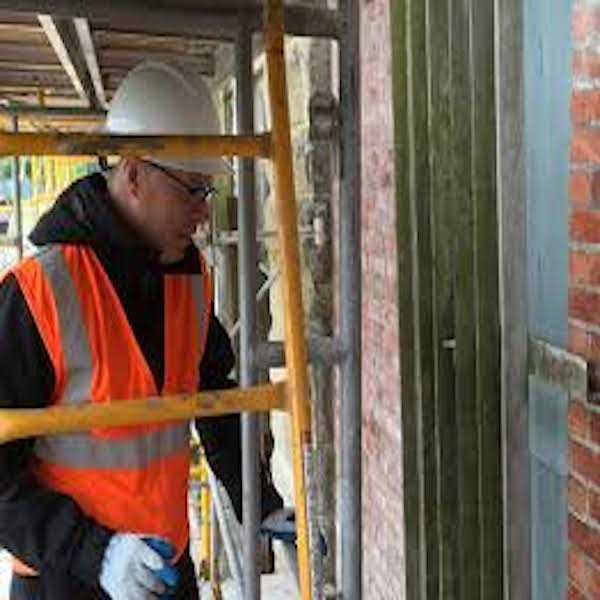helmet: (114, 57, 239, 162)
vest: (41, 247, 226, 515)
